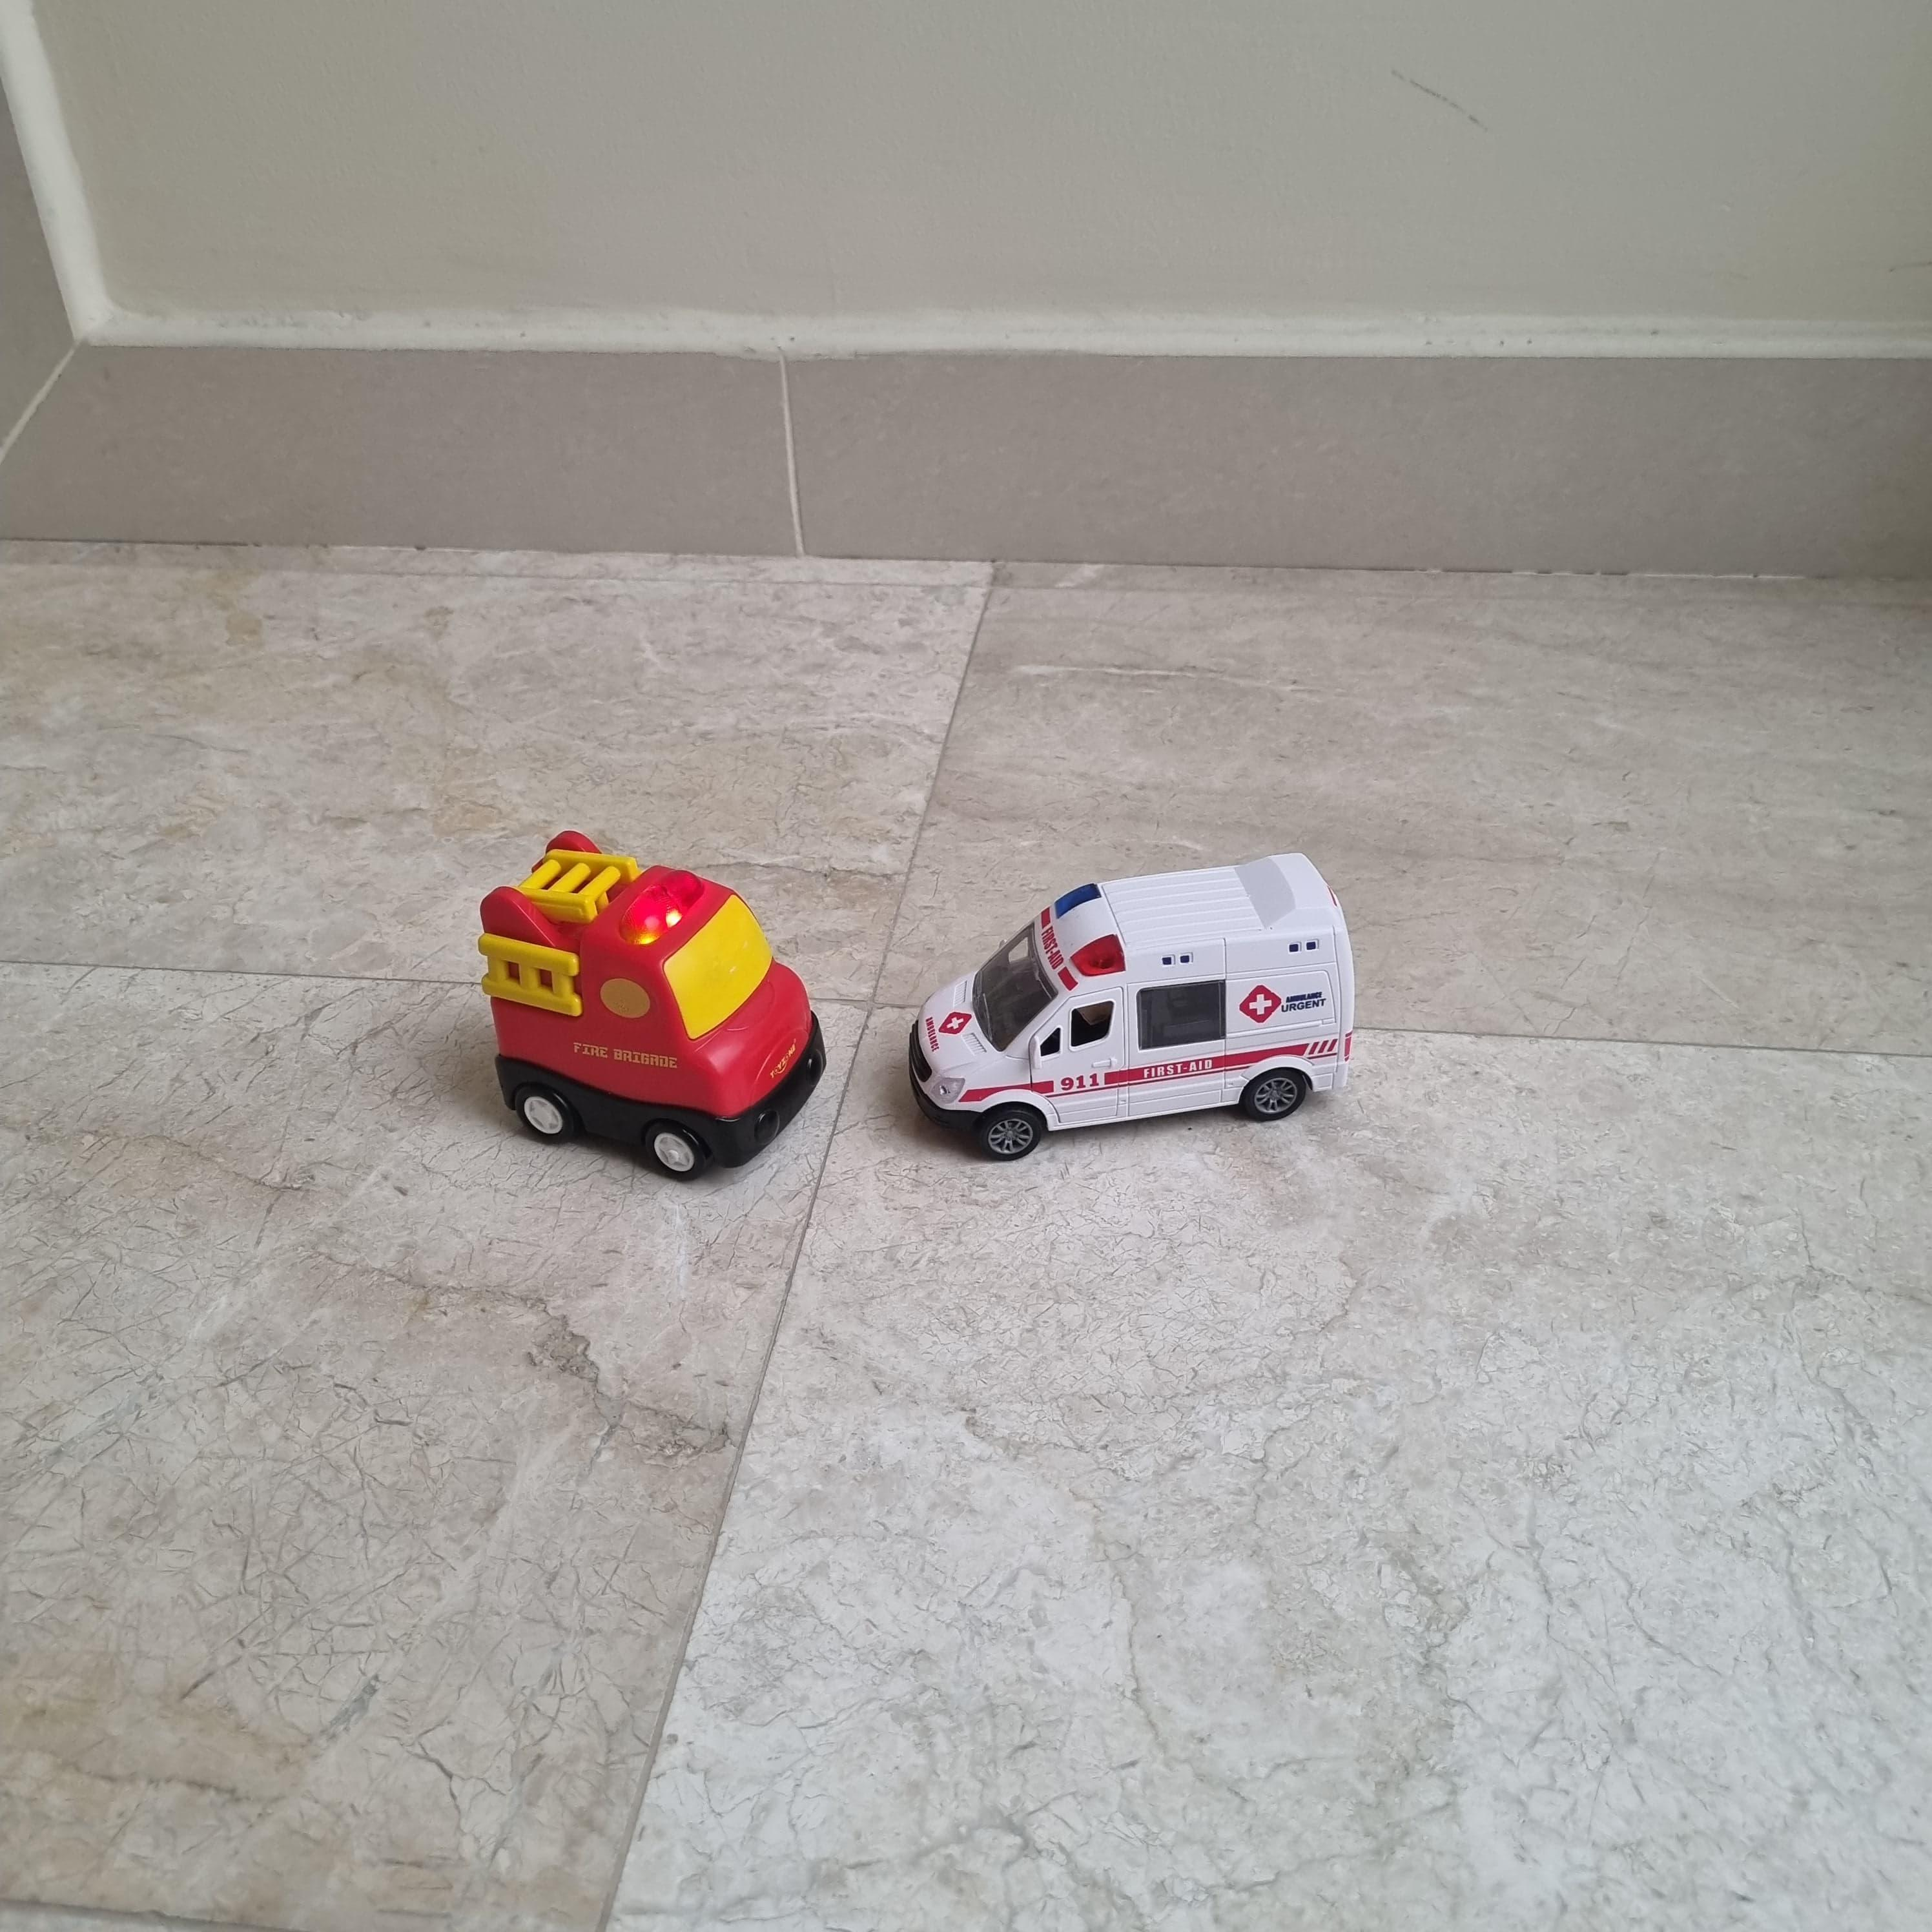ambulance_off: (908, 853, 1355, 1166)
firetruck_on: (476, 830, 830, 1182)
